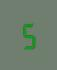five: (19, 20, 36, 49)
